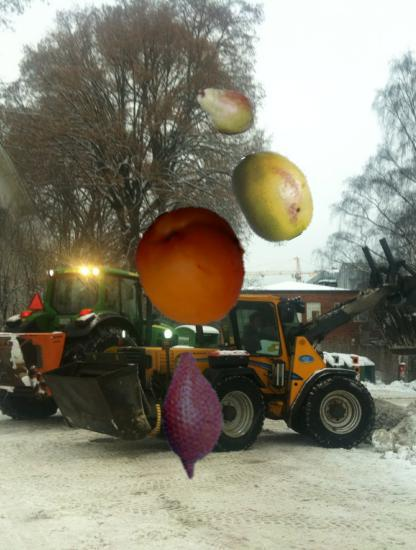Apricot: (131, 206, 253, 328)
Pear: (192, 77, 258, 143)
Pomelo: (226, 148, 321, 243)
Salak: (127, 350, 258, 481)
